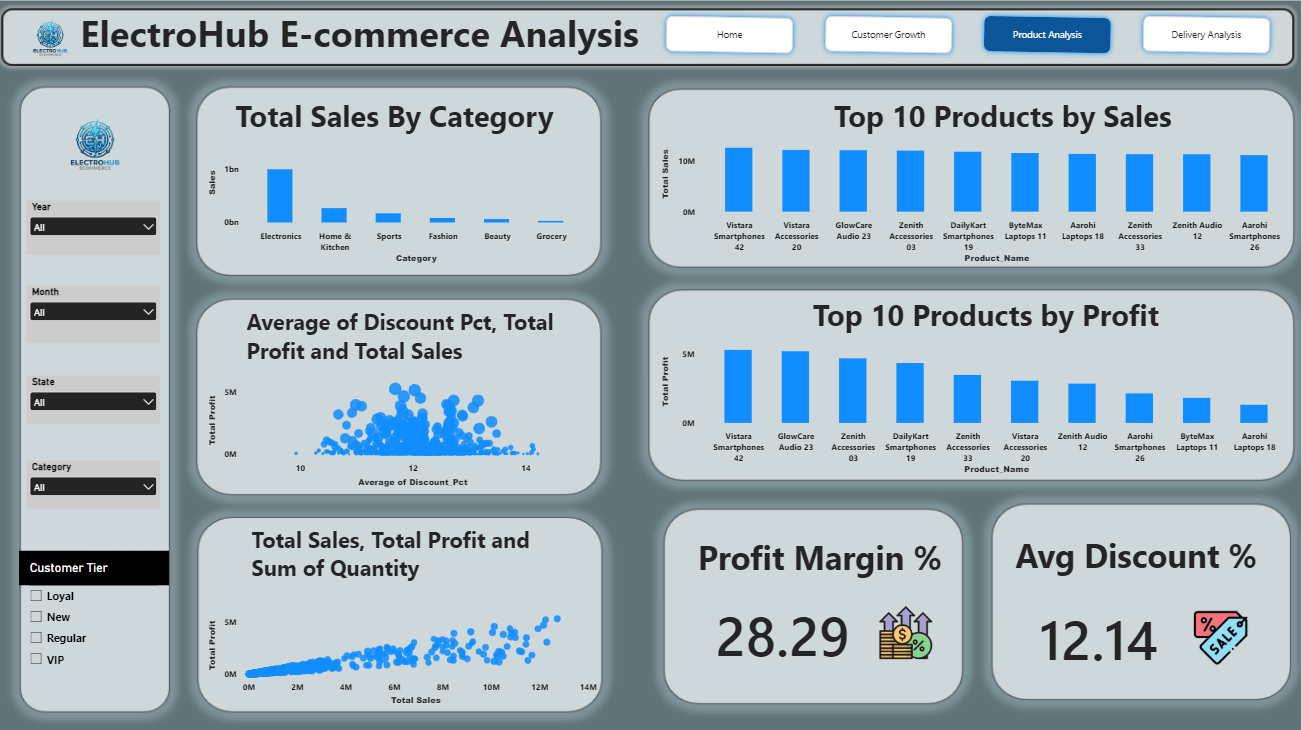

Layout of this report page (visuals, bound fields, positions):
{"tool":"powerbi","page":{"name":"Product Analysis","canvas":[1920,1080],"ordinal":2},"visuals":[{"type":"image","box":[0,0,150.9,119.6],"z":0,"group":"g1"},{"type":"pageNavigator","box":[962.6,18.4,929.5,71.8],"z":0},{"type":"image","box":[33,136.1,217.2,160.8],"z":0,"group":"g2"},{"type":"group","id":"g1","title":"Group 2","box":[0,0,972.3,119.6],"z":1000},{"type":"textbox","box":[119.6,14.7,852.7,95.2],"z":1000,"group":"g1"},{"type":"group","id":"g2","title":"Group 2","box":[33,136.1,217.2,156.4],"z":1000,"group":"g3"},{"type":"slicer","title":"Year","fields":{"Values":["orders.Order_Date.Variation.Date Hierarchy.Year"]},"box":[41.1,298.7,196.9,80.1],"z":2000},{"type":"slicer","title":"Year","fields":{"Values":["customers.State"]},"box":[41.1,556.2,196.9,71.4],"z":3000},{"type":"slicer","title":"Year","fields":{"Values":["orders.Order_Date.Variation.Date Hierarchy.Month"]},"box":[41.1,424.2,196.9,84.4],"z":4000},{"type":"slicer","title":"Year","fields":{"Values":["products.Category"]},"box":[41.1,681.7,196.9,71.4],"z":5000},{"type":"group","id":"g3","title":"Group 1","box":[33,136.1,217.2,156.4],"z":6000},{"type":"clusteredColumnChart","fields":{"Y":["order_items.Total Sales"],"Category":["products.Category"]},"box":[292.6,189.6,589,217.2],"z":7000},{"type":"scatterChart","fields":{"X":["order_items.Total Sales"],"Y":["order_items.Total Profit"],"Size":["Sum(order_items.Quantity)"],"Category":["products.Product_Name"]},"box":[292.6,879.8,603.7,178.5],"z":8000},{"type":"scatterChart","fields":{"X":["Avg(order_items.Discount_Pct)"],"Y":["order_items.Total Profit"],"Size":["order_items.Total Sales"],"Category":["products.Product_Name"]},"box":[292.6,539.3,589,196.9],"z":9000},{"type":"clusteredColumnChart","fields":{"Y":["order_items.Total Sales"],"Category":["products.Product_Name"]},"box":[960.7,180.4,958.9,226.4],"z":10000},{"type":"clusteredColumnChart","fields":{"Category":["products.Product_Name"],"Y":["order_items.Total Profit"]},"box":[960.7,480.4,958.9,237.4],"z":11000},{"type":"cardVisual","fields":{"Data":["order_items.Profit Margin %"]},"box":[1023.3,866.9,312.9,138],"z":12000},{"type":"cardVisual","fields":{"Data":["order_items.Avg discount pc"]},"box":[1500,866.9,281.6,150.9],"z":13000},{"type":"listSlicer","title":"Customer Tier","fields":{"Values":["customers.Customer_Tier"]},"box":[30.3,813.7,220.7,192.6],"z":14000},{"type":"textbox","box":[347.9,143.6,498.8,73.6],"z":15000},{"type":"textbox","box":[364.4,454.6,531.9,108.6],"z":16000},{"type":"textbox","box":[371.8,774.9,445.4,121.5],"z":17000},{"type":"textbox","box":[1229.5,143.6,552.2,73.6],"z":18000},{"type":"textbox","box":[1198.2,436.2,559.5,60.7],"z":19000},{"type":"textbox","box":[1028.8,789.6,373.6,86.5],"z":20000},{"type":"textbox","box":[1496.3,787.7,395.7,90.2],"z":21000},{"type":"image","box":[1288.4,885.3,95.7,99.4],"z":21001},{"type":"image","box":[1733.8,881.6,127,108.6],"z":21002}]}

Visuals, with their boxes in screenshot pixels (x1, y1, x2, y2), scaled from the page's 1920x1080 canvas onto the 1302x730 screenshot:
image: locate(0, 0, 102, 81)
pageNavigator: locate(653, 12, 1283, 61)
image: locate(22, 92, 170, 201)
"Group 2" group: locate(0, 0, 659, 81)
textbox: locate(81, 10, 659, 74)
"Group 2" group: locate(22, 92, 170, 198)
"Year" slicer: locate(28, 202, 161, 256)
"Year" slicer: locate(28, 376, 161, 424)
"Year" slicer: locate(28, 287, 161, 344)
"Year" slicer: locate(28, 461, 161, 509)
"Group 1" group: locate(22, 92, 170, 198)
clusteredColumnChart - order_items.Total Sales x products.Category: locate(198, 128, 598, 275)
scatterChart - order_items.Total Sales x order_items.Total Profit: locate(198, 595, 608, 715)
scatterChart - Avg(order_items.Discount_Pct) x order_items.Total Profit: locate(198, 365, 598, 498)
clusteredColumnChart - order_items.Total Sales x products.Product_Name: locate(651, 122, 1301, 275)
clusteredColumnChart - products.Product_Name x order_items.Total Profit: locate(651, 325, 1301, 485)
cardVisual - order_items.Profit Margin %: locate(694, 586, 906, 679)
cardVisual - order_items.Avg discount pc: locate(1017, 586, 1208, 688)
"Customer Tier" listSlicer: locate(21, 550, 170, 680)
textbox: locate(236, 97, 574, 147)
textbox: locate(247, 307, 608, 381)
textbox: locate(252, 524, 554, 606)
textbox: locate(834, 97, 1208, 147)
textbox: locate(813, 295, 1192, 336)
textbox: locate(698, 534, 951, 592)
textbox: locate(1015, 532, 1283, 593)
image: locate(874, 598, 939, 666)
image: locate(1176, 596, 1262, 669)
